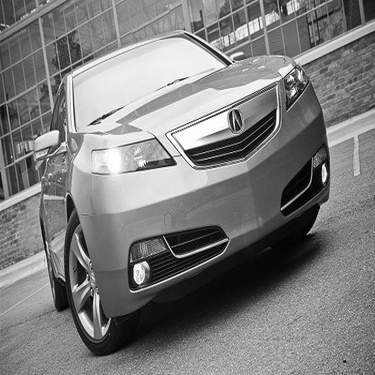car: (27, 25, 336, 359)
